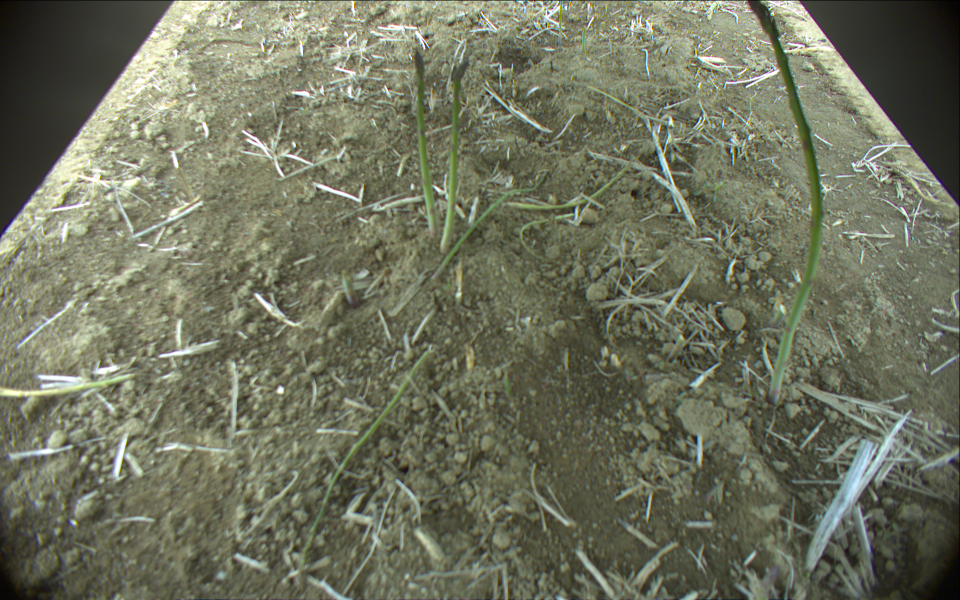aspa: (285, 349, 433, 589), (738, 1, 823, 405), (433, 172, 551, 281), (438, 51, 470, 251), (502, 162, 634, 208), (413, 51, 441, 236), (1, 378, 135, 400), (556, 1, 564, 45), (581, 23, 589, 50)
